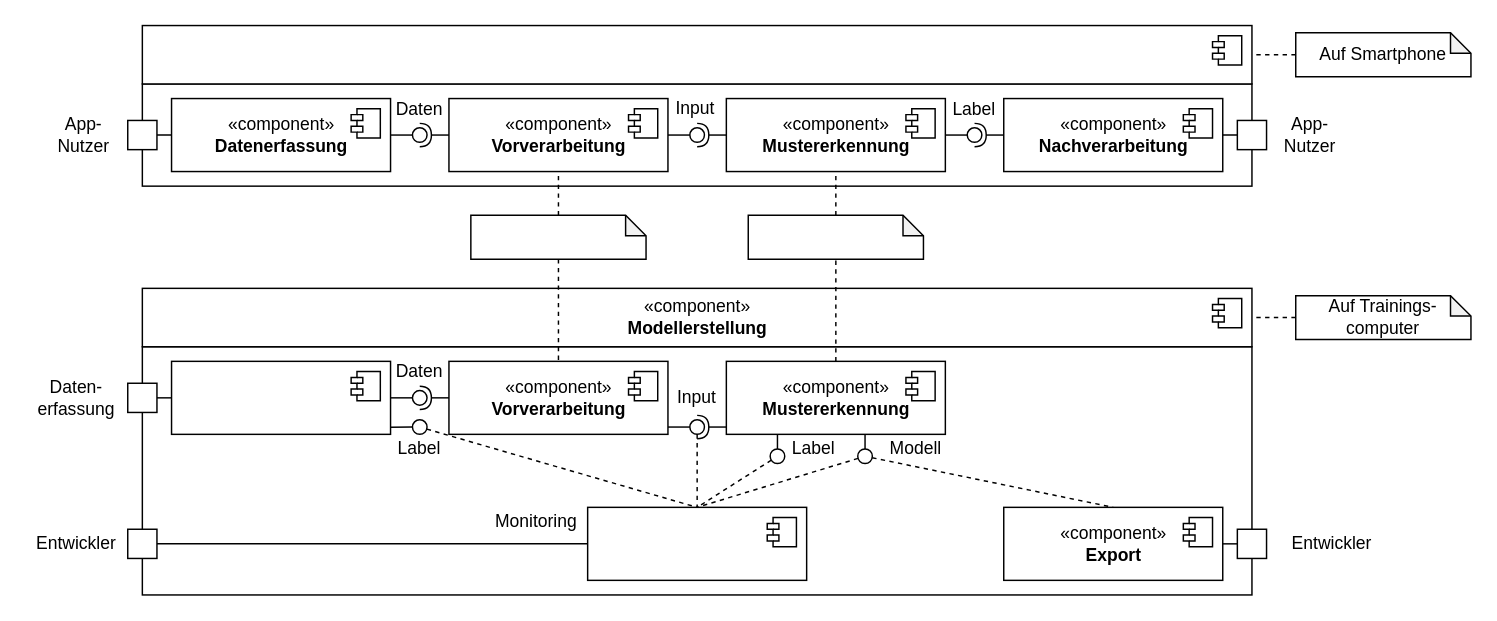
The diagram is 1497 pixels wide and 621 high, and some of its shapes have lost their labels. The shapes that lost their labels are listed below. From the top down, each one's centre as x and y in pixels, then its label:
point (696, 54): «component» Verkehrsmittelerkennung
point (557, 236): Gespiegelt
point (835, 236): Exportiert
point (280, 397): «component» Datenmanagement
point (696, 543): «component» Training
